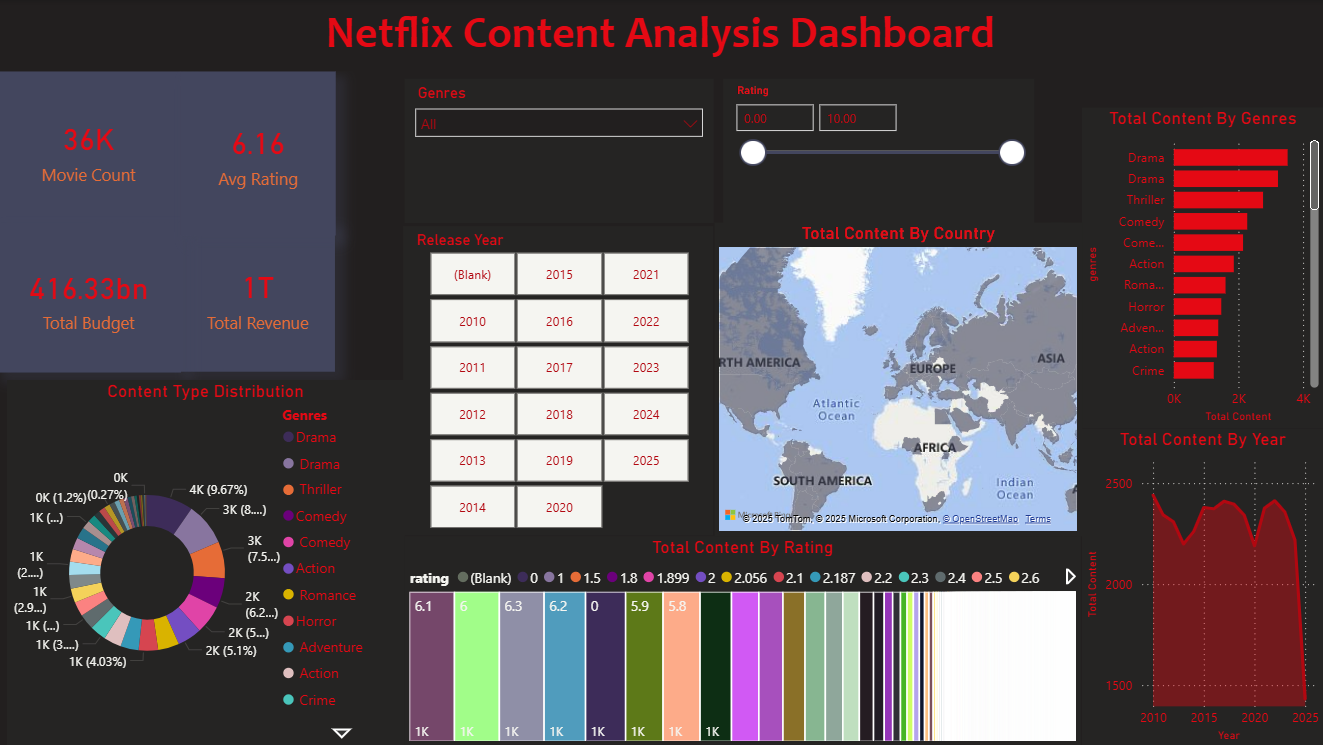

This screenshot's page, from the dashboard's own definition file:
{"tool":"powerbi","page":{"name":"Page 1","canvas":[1280,720],"ordinal":0},"visuals":[{"type":"card","fields":{"Values":["netflix_movies_detailed_up_to_2025.Movie Count"]},"box":[0,68.5,177.3,150.4],"z":0},{"type":"card","fields":{"Values":["netflix_movies_detailed_up_to_2025.Total Revenue"]},"box":[177.3,215.2,149.2,144.3],"z":1000},{"type":"card","fields":{"Values":["netflix_movies_detailed_up_to_2025.Total Budget"]},"box":[0,214.7,177.3,144.8],"z":2000},{"type":"card","fields":{"Values":["netflix_movies_detailed_up_to_2025.Avg Rating"]},"box":[177.3,68.8,149.6,158],"z":3000},{"type":"donutChart","title":" Content Type Distribution","fields":{"Y":["netflix_movies_detailed_up_to_2025.Total Content"],"Category":["netflix_movies_detailed_up_to_2025.genres"]},"box":[9.7,366.8,383.6,353.5],"z":4000},{"type":"barChart","title":"Total Content By Genres","fields":{"Y":["netflix_movies_detailed_up_to_2025.Total Content"],"Category":["netflix_movies_detailed_up_to_2025.genres"]},"box":[1046.7,103.9,233.6,309.4],"z":5000},{"type":"treemap","title":"Total Content By Rating","fields":{"Values":["netflix_movies_detailed_up_to_2025.Total Content"],"Details":["netflix_movies_detailed_up_to_2025.rating"]},"box":[393.8,517.3,653,203],"z":6000},{"type":"filledMap","title":"Total Content By Country","fields":{"Category":["netflix_movies_detailed_up_to_2025.country"]},"box":[692.1,215.2,354.6,302],"z":7000},{"type":"areaChart","title":"Total Content By Year","fields":{"Category":["netflix_movies_detailed_up_to_2025.date_added.Variation.Date Hierarchy.Year","netflix_movies_detailed_up_to_2025.date_added.Variation.Date Hierarchy.Month"],"Y":["netflix_movies_detailed_up_to_2025.Total Content"]},"box":[1046.7,413.3,233.6,306.9],"z":8000},{"type":"slicer","fields":{"Values":["netflix_movies_detailed_up_to_2025.genres"]},"box":[393.8,75.8,298.4,139.4],"z":9000},{"type":"slicer","fields":{"Values":["netflix_movies_detailed_up_to_2025.rating"]},"box":[700.7,75.8,299.6,139.4],"z":10000},{"type":"slicer","fields":{"Values":["netflix_movies_detailed_up_to_2025.release_year"]},"box":[392.5,218.9,299.6,298.4],"z":11000},{"type":"textbox","box":[0,0,1280.3,68.5],"z":12000}]}

Visuals, with their boxes in screenshot pixels (x1, y1, x2, y2), scaled from the page's 1280x720 canvas onto the 1323x745 screenshot:
card - netflix_movies_detailed_up_to_2025.Movie Count: Rect(0, 71, 183, 227)
card - netflix_movies_detailed_up_to_2025.Total Revenue: Rect(183, 223, 337, 372)
card - netflix_movies_detailed_up_to_2025.Total Budget: Rect(0, 222, 183, 372)
card - netflix_movies_detailed_up_to_2025.Avg Rating: Rect(183, 71, 338, 235)
" Content Type Distribution" donutChart: Rect(10, 380, 407, 744)
"Total Content By Genres" barChart: Rect(1082, 108, 1322, 428)
"Total Content By Rating" treemap: Rect(407, 535, 1082, 744)
"Total Content By Country" filledMap: Rect(715, 223, 1082, 535)
"Total Content By Year" areaChart: Rect(1082, 428, 1322, 744)
slicer - netflix_movies_detailed_up_to_2025.genres: Rect(407, 78, 715, 223)
slicer - netflix_movies_detailed_up_to_2025.rating: Rect(724, 78, 1034, 223)
slicer - netflix_movies_detailed_up_to_2025.release_year: Rect(406, 227, 715, 535)
textbox: Rect(0, 0, 1322, 71)
